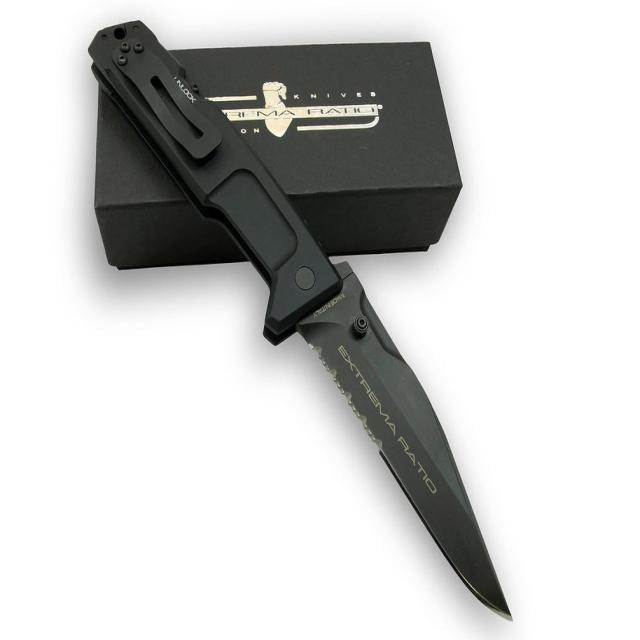knife: (86, 11, 545, 640)
